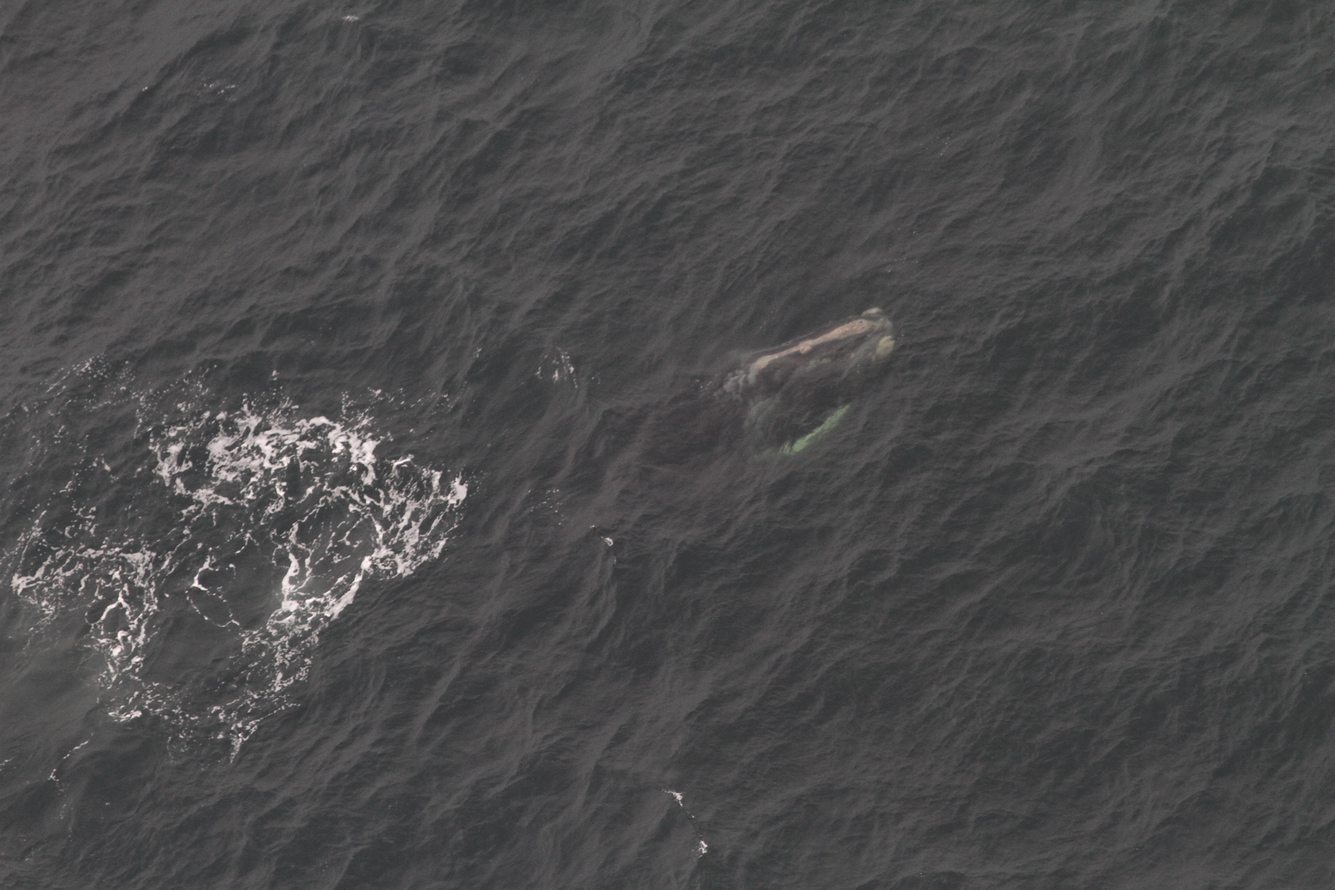whale: (561, 301, 906, 486)
